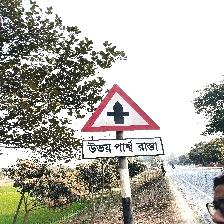Crossroad: (80, 85, 164, 159)
